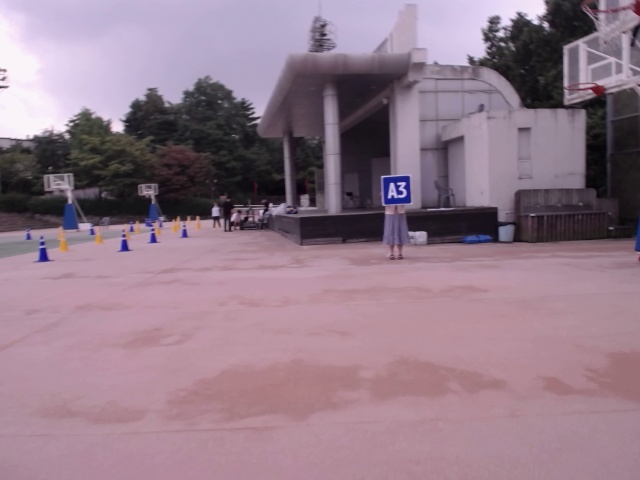delivery_a3: (382, 175, 413, 205)
